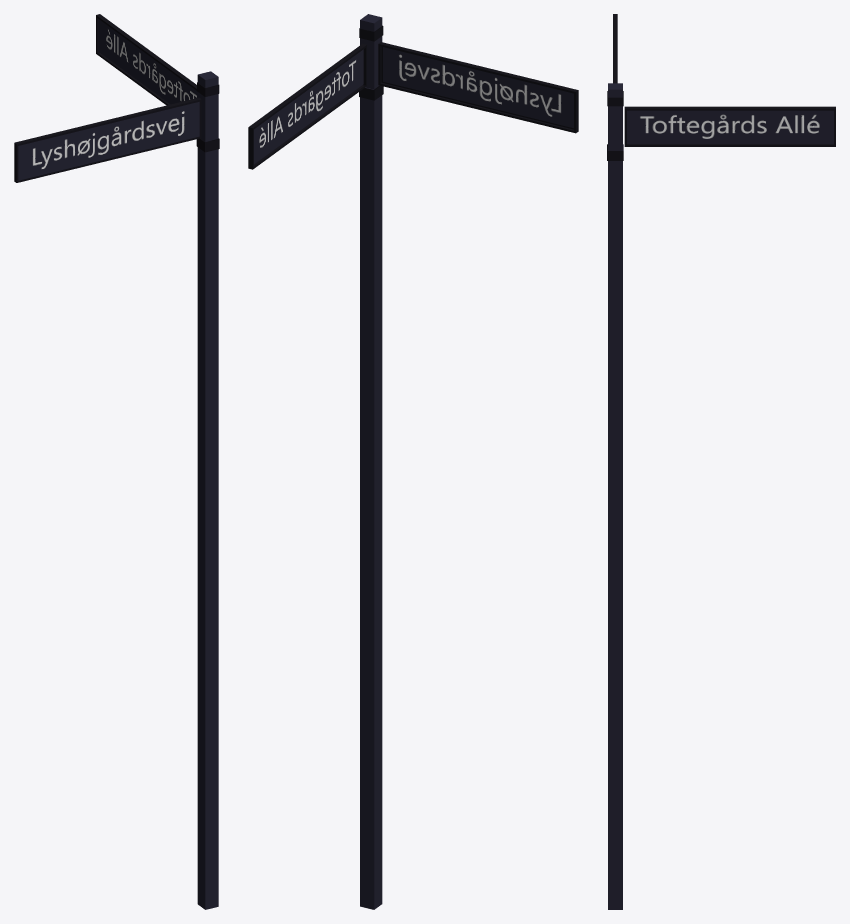
The model's file is StreetSign.fbx.
3 renders of one model, left to right at view 1: azimuth 30°, elevation 25°; view 2: azimuth 150°, elevation 25°; view 3: azimuth 270°, elevation 25°, orthographic. The views are drawn at different scales.
Visible parts, largest first — view 1: StreetSign; view 2: StreetSign; view 3: StreetSign.
Part boxes in pixels (x1,y1,x2,y2): StreetSign: (14,14,219,909); StreetSign: (248,14,578,909); StreetSign: (607,14,835,909).
Size of the model in its own units: 75.73 by 300 by 75.87.
